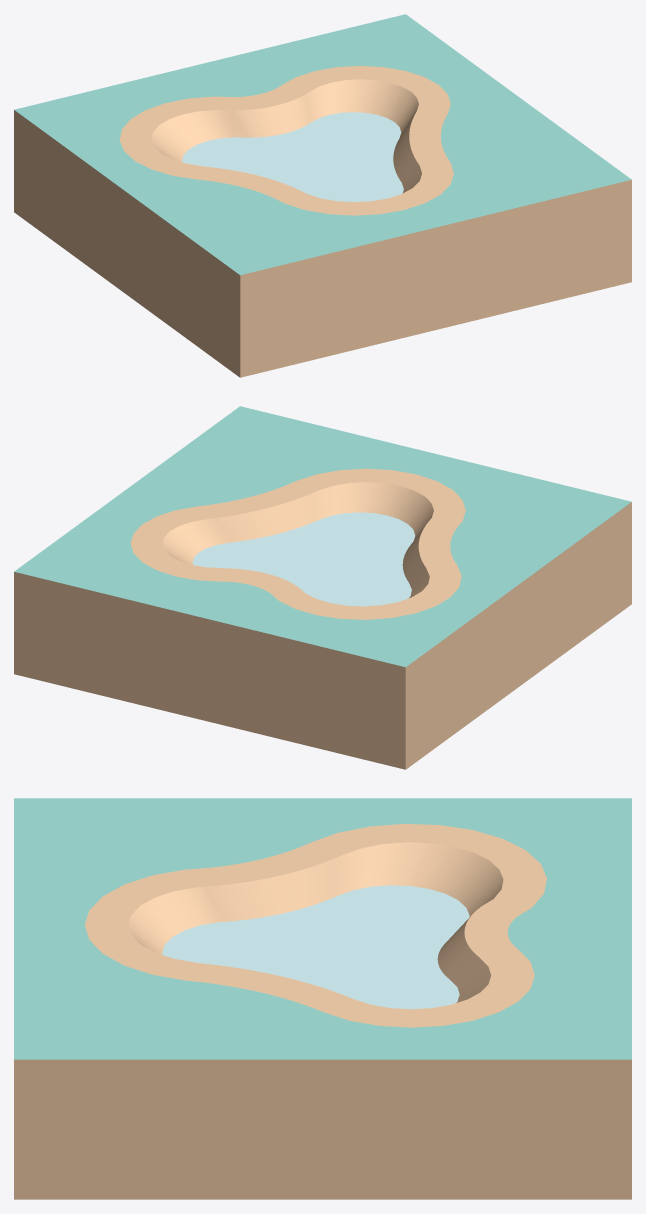
The model's file is ground_dirtRiverTile.glb.
The picture shows the model from 3 angles, top to bottom: view 1: azimuth 30°, elevation 25°; view 2: azimuth 150°, elevation 25°; view 3: azimuth 270°, elevation 25°; orthographic projection. The views are drawn at different scales.
Visible parts, largest first — view 1: ground_dirtRiverTile; view 2: ground_dirtRiverTile; view 3: ground_dirtRiverTile.
Part boxes in pixels (x1,y1,x2,y2): ground_dirtRiverTile: (14,14,631,377); ground_dirtRiverTile: (14,406,631,769); ground_dirtRiverTile: (14,798,631,1199).
Bounding box in the file's own units: 1 × 0.25 × 1.
